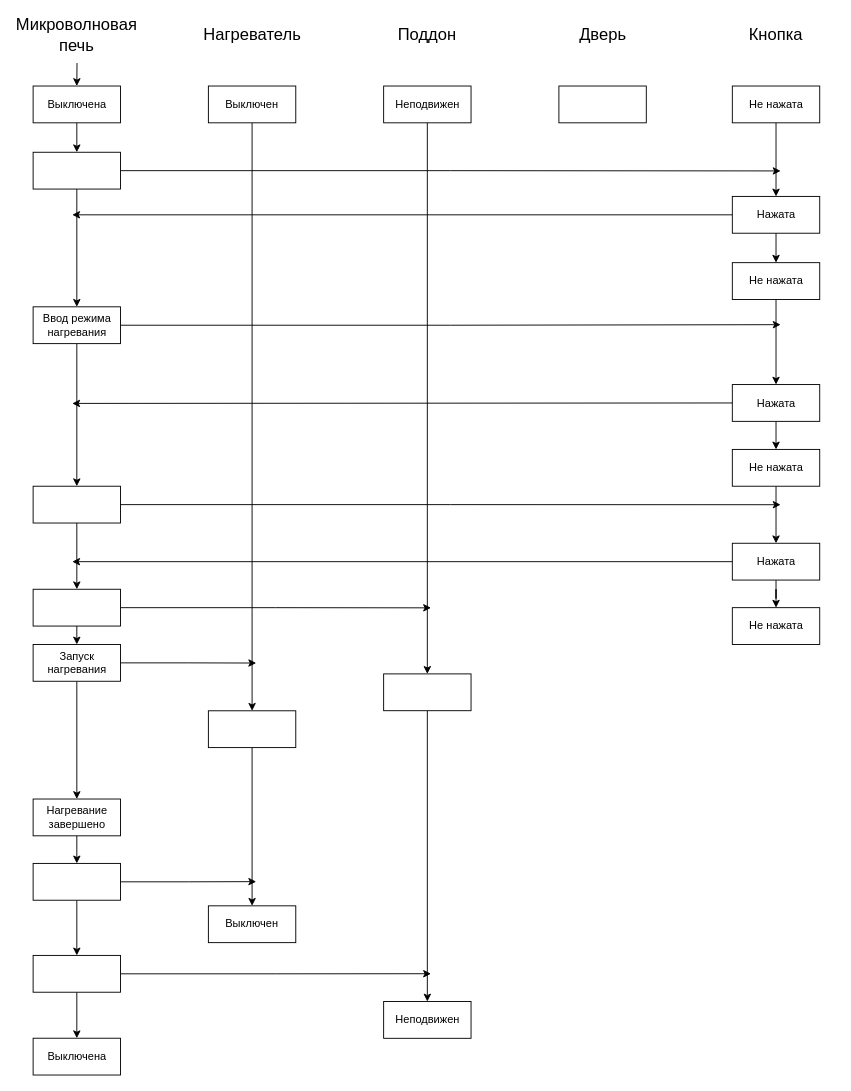
The diagram is 851 pixels wide and 1091 high, and some of its shapes have lost their labels. The shapes that lost their labels are listed below. From the top down, each one's box as (x1, y1, x2, y2) in pixels, then its label:
(558, 85, 646, 123): Закрыта
(32, 151, 121, 189): Ввод времени
(32, 485, 121, 523): Команда запуска
(32, 588, 121, 626): Запуск вращения
(383, 673, 471, 711): Вращается
(207, 710, 296, 748): Включен
(32, 862, 121, 900): Остановка нагревания
(32, 954, 121, 992): Остановка вращения
